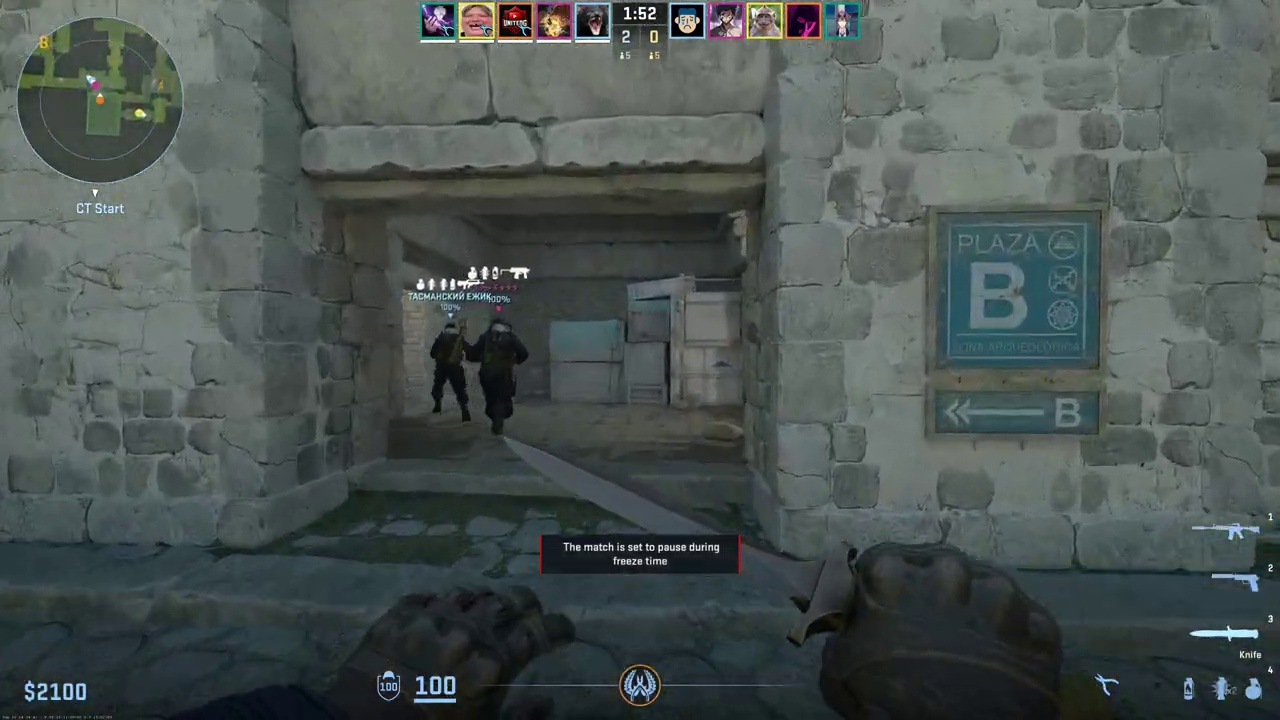CT: (474, 320, 520, 441), (430, 321, 469, 423)
